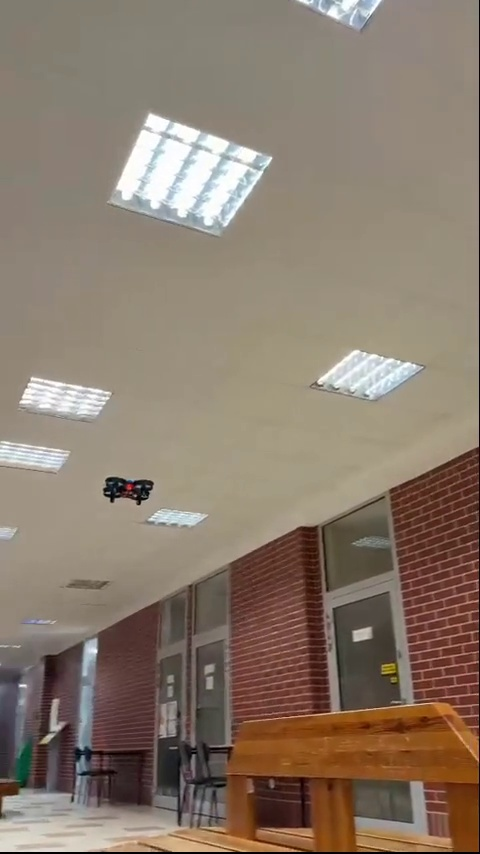drone: (99, 476, 157, 508)
